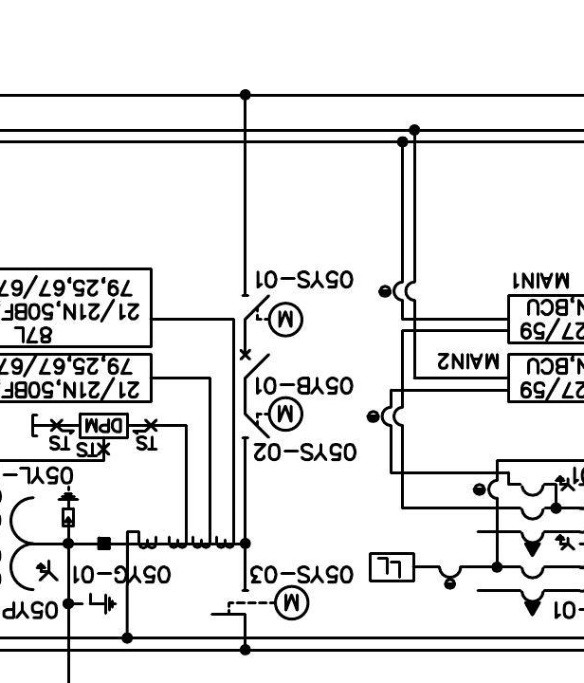115_1way_ds_w_motor: (210, 583, 311, 620), (241, 395, 305, 440), (241, 293, 305, 338)
115_breaker: (239, 348, 271, 379)
115_gs: (80, 592, 119, 616)
115_la: (57, 485, 80, 528)
DPM: (79, 412, 130, 439)
LL: (368, 552, 416, 583)
